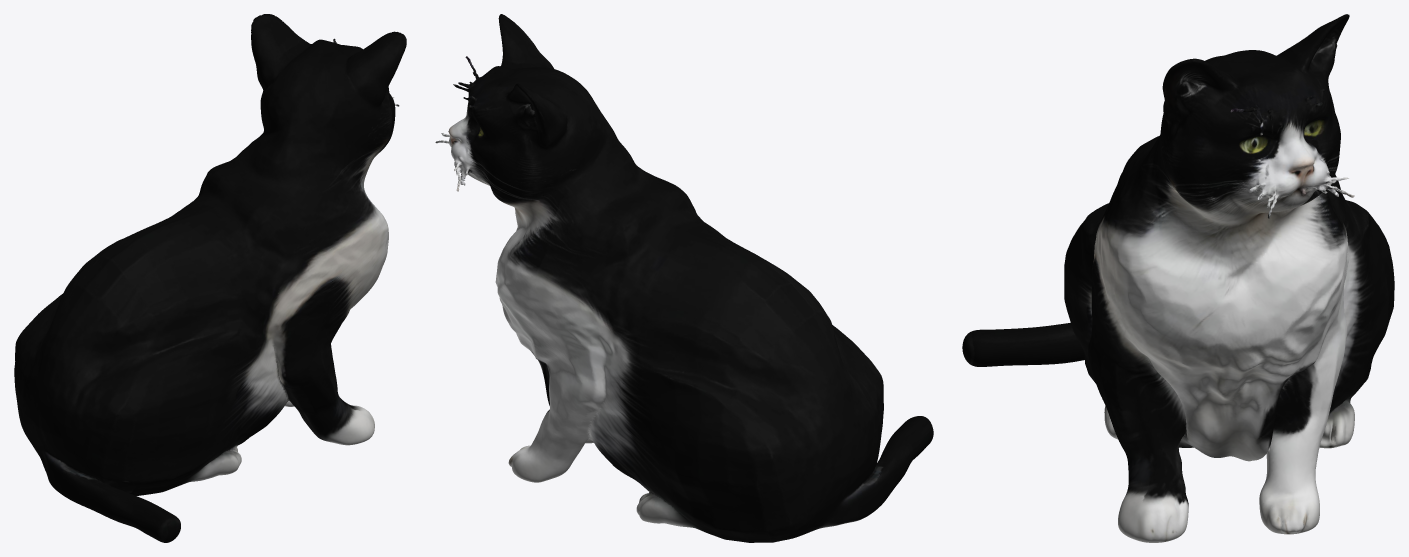
Rendered from Tuxedo.fbx.
The picture shows the model from 3 angles, left to right: view 1: azimuth 30°, elevation 25°; view 2: azimuth 150°, elevation 25°; view 3: azimuth 270°, elevation 25°; orthographic projection. The views are drawn at different scales.
Parts seen in each view (by area): view 1: tripo_node_64d558cf; view 2: tripo_node_64d558cf; view 3: tripo_node_64d558cf.
Boxes of the visible parts, box(x1,y1,x2,y2) form: tripo_node_64d558cf: box(14, 14, 406, 542); tripo_node_64d558cf: box(435, 14, 933, 542); tripo_node_64d558cf: box(962, 14, 1394, 542).
Size of the model in its own units: 100 by 97.51 by 73.9.
1 material, 1 textured.
